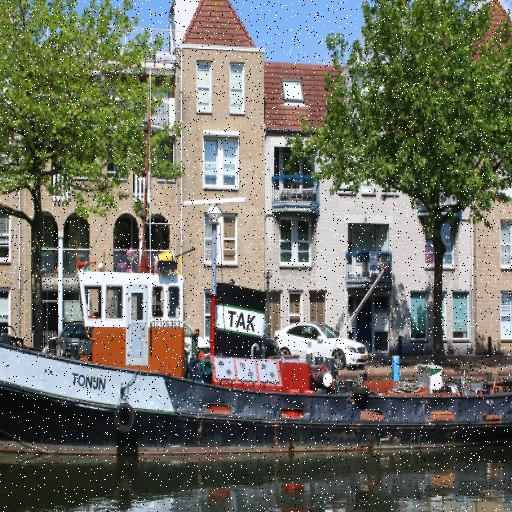tugboat: (1, 248, 512, 480)
